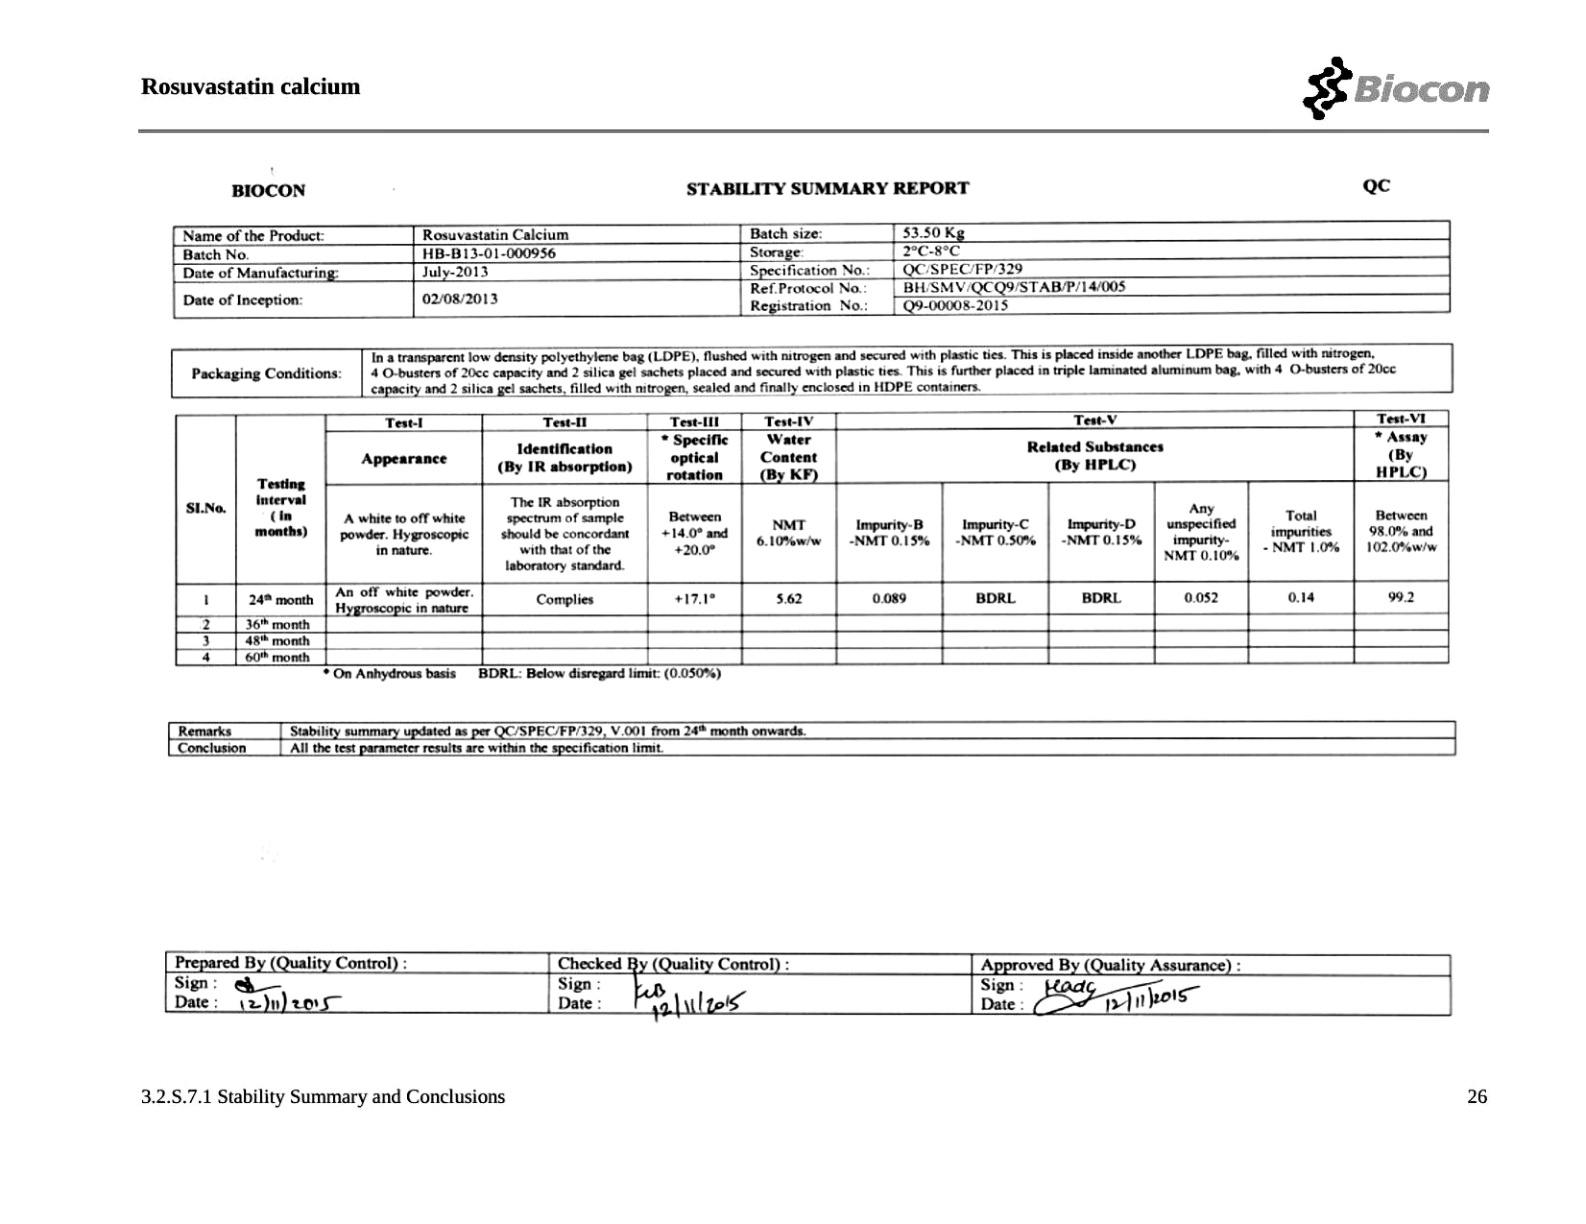full_lined: (165, 949, 1454, 1017), (168, 341, 1454, 399), (167, 719, 1457, 759)
merged_cells: (174, 411, 1451, 666), (171, 216, 1452, 319)
